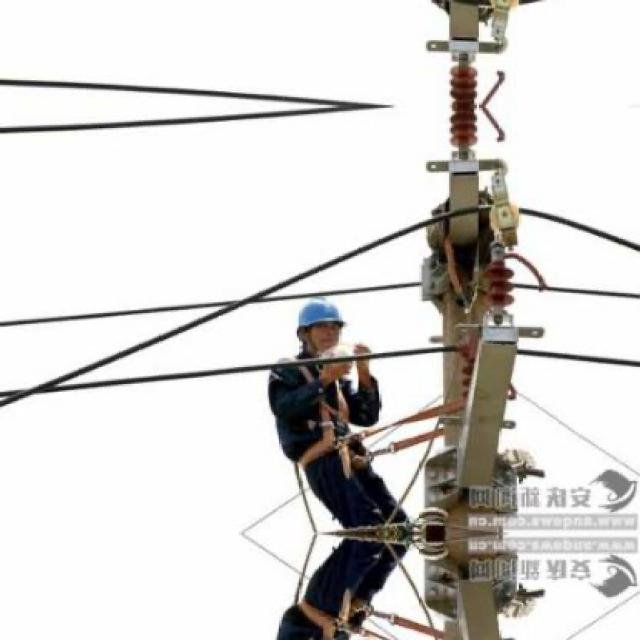helmet: (289, 296, 349, 355)
